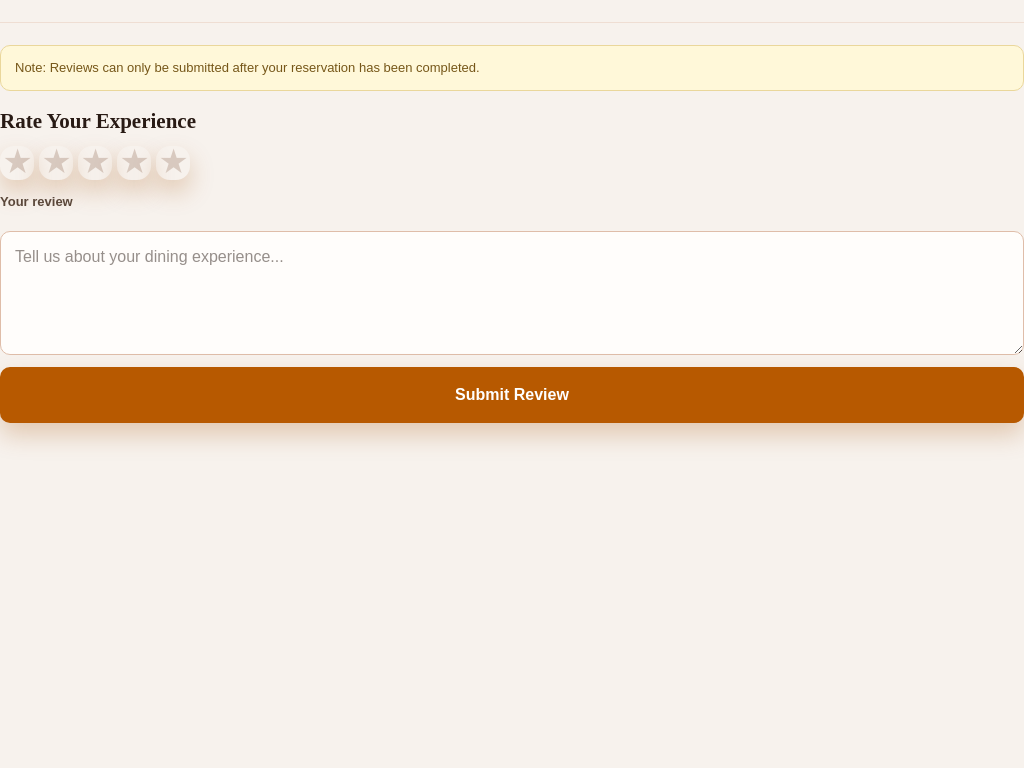
Scenario: submits once and replaces the form with the saved review state
The image size is (1024, 768).
Click the button named "Rate 4 stars": point(134, 162) [117,146,151,180]
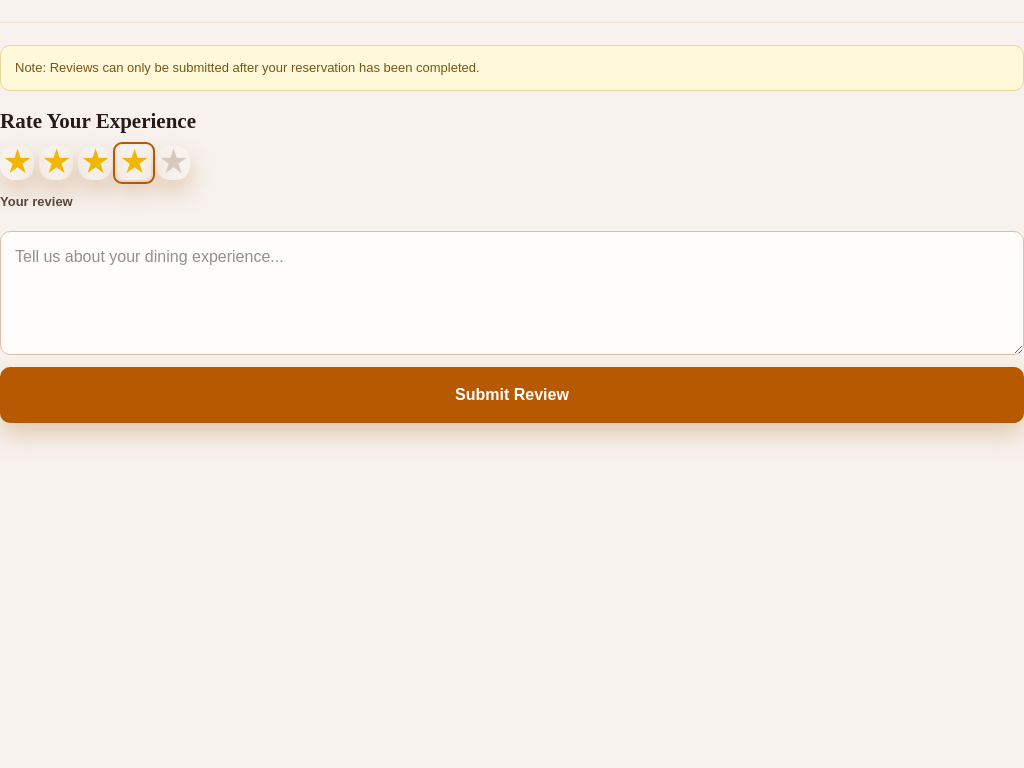
In the text box labelled "Your review": point(512, 293) [0,231,1023,355], type "Wonderful dinner."
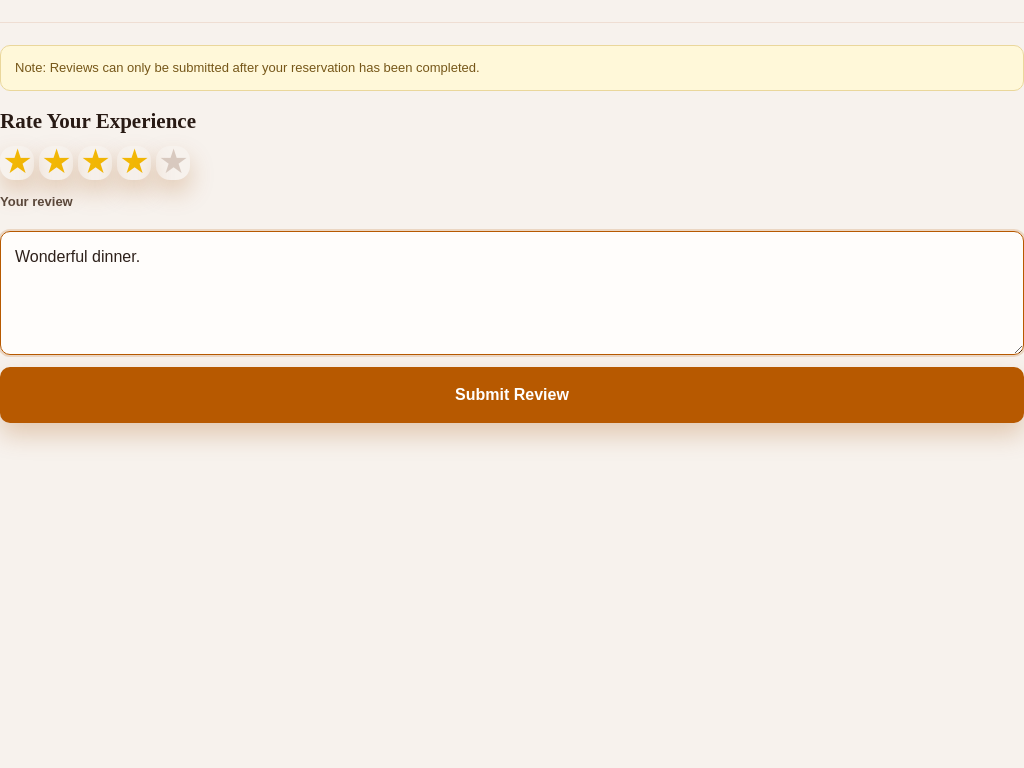
Click the button "Submit Review": point(512, 395) [0,367,1023,423]
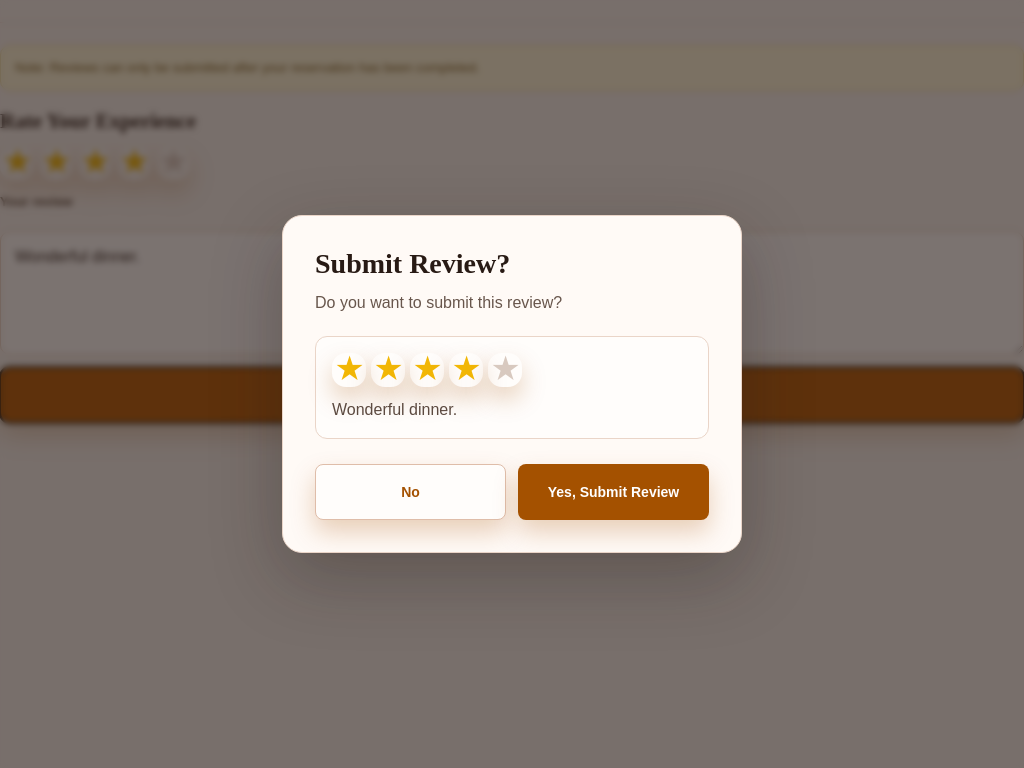
Now the dialog "Submit Review?" is shown
Click the button "Yes, Submit Review": point(614, 492) [518,464,709,520]
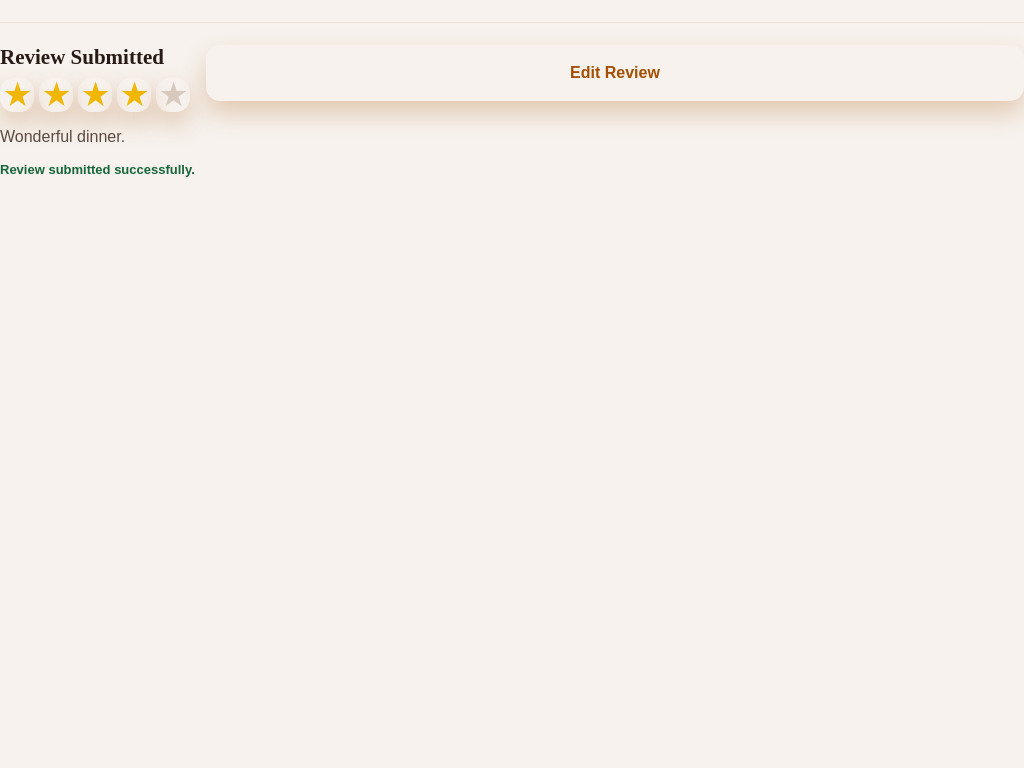
Now the heading "Review Submitted" is shown, box [0,45,190,70]
